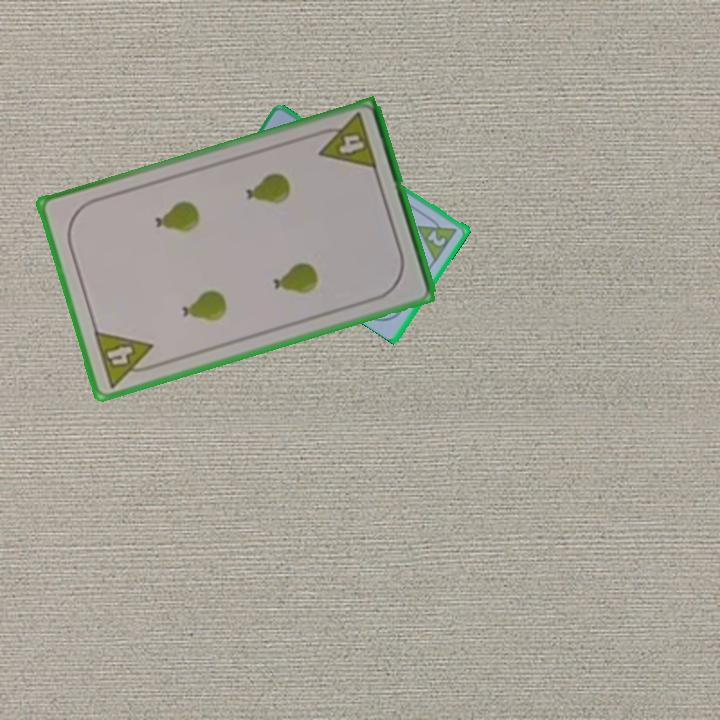2p: (414, 211, 461, 264)
4p: (90, 327, 161, 391), (311, 110, 380, 173)
